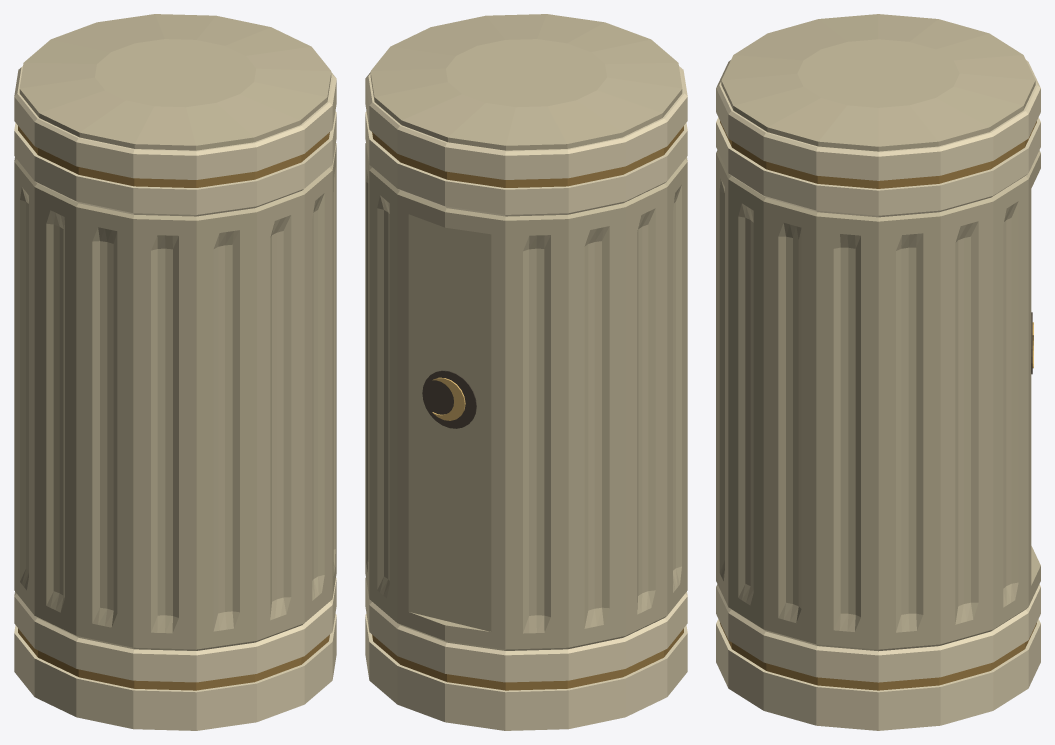
File: shade-practice-pillar-v01.glb
3 renders of one model, left to right at view 1: azimuth 30°, elevation 25°; view 2: azimuth 150°, elevation 25°; view 3: azimuth 270°, elevation 25°, orthographic.
Visible parts, largest first — view 1: Shadow sandstone 2, Shadow sandstone light 0, Shadow brass 1; view 2: Shadow sandstone 2, Shadow sandstone light 0, Shadow brass 1, Shadow bronze dark 3, Shadow brass light 4; view 3: Shadow sandstone 2, Shadow sandstone light 0, Shadow brass 1.
Boxes of the visible parts, x1=… form: Shadow sandstone 2: x1=14, y1=14, x2=336, y2=650; Shadow sandstone light 0: x1=14, y1=66, x2=336, y2=730; Shadow brass 1: x1=18, y1=126, x2=329, y2=690; Shadow sandstone 2: x1=365, y1=14, x2=687, y2=650; Shadow sandstone light 0: x1=365, y1=66, x2=687, y2=730; Shadow brass 1: x1=372, y1=126, x2=683, y2=690; Shadow bronze dark 3: x1=422, y1=370, x2=476, y2=428; Shadow brass light 4: x1=432, y1=377, x2=465, y2=420; Shadow sandstone 2: x1=716, y1=14, x2=1040, y2=651; Shadow sandstone light 0: x1=716, y1=60, x2=1040, y2=730; Shadow brass 1: x1=720, y1=121, x2=1036, y2=690.
Size of the model in its own units: 1.2 by 2.4 by 1.2.
